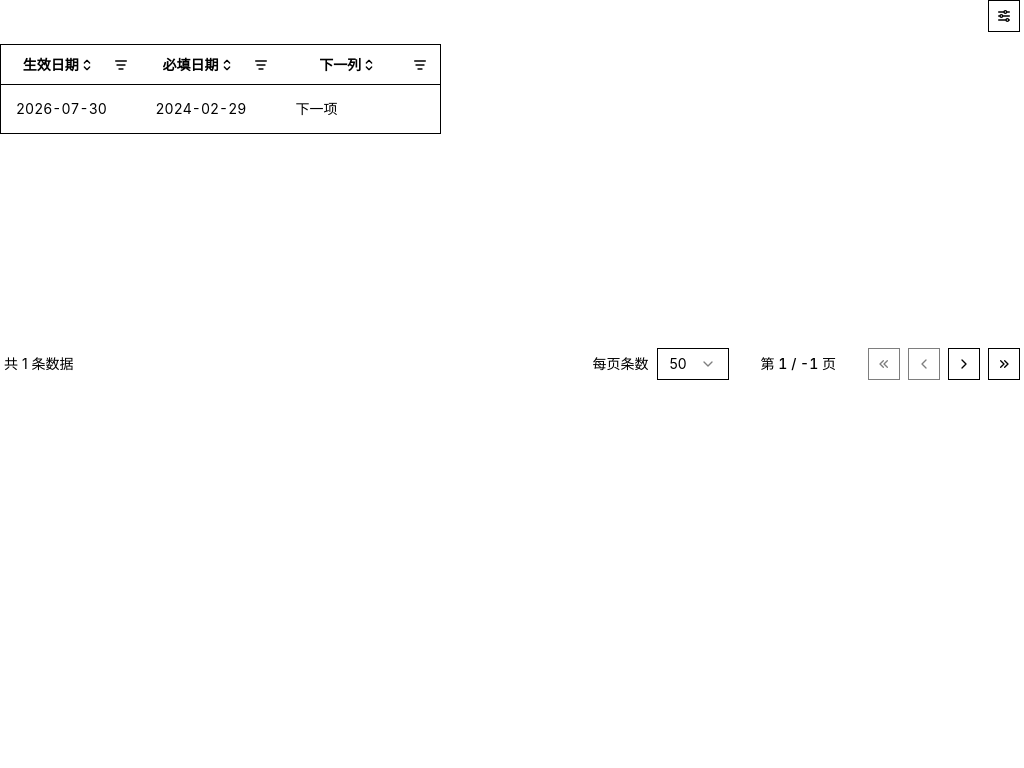
it: DataTableEditableDateCell › cancels the whole session from Calendar Escape and restores cell focus
Double-click the cell "2026-07-30" at (70, 109), box 0,85 -> 140,133
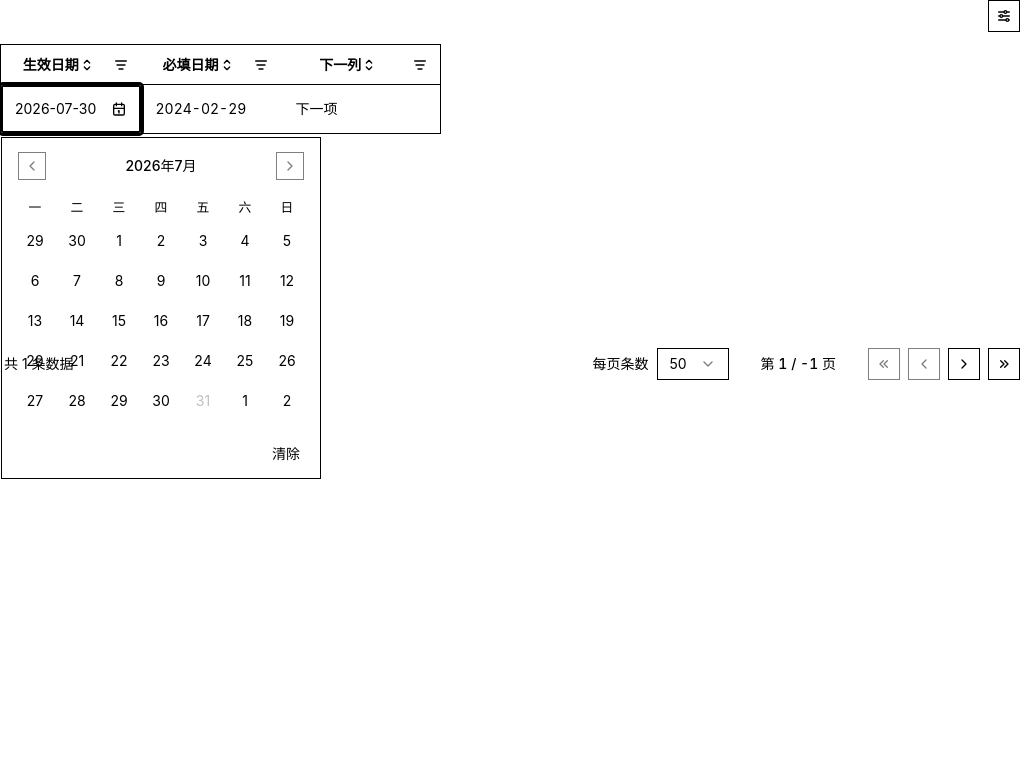
Press Escape in the dialog named "生效日期日历", box 1,137 -> 321,479
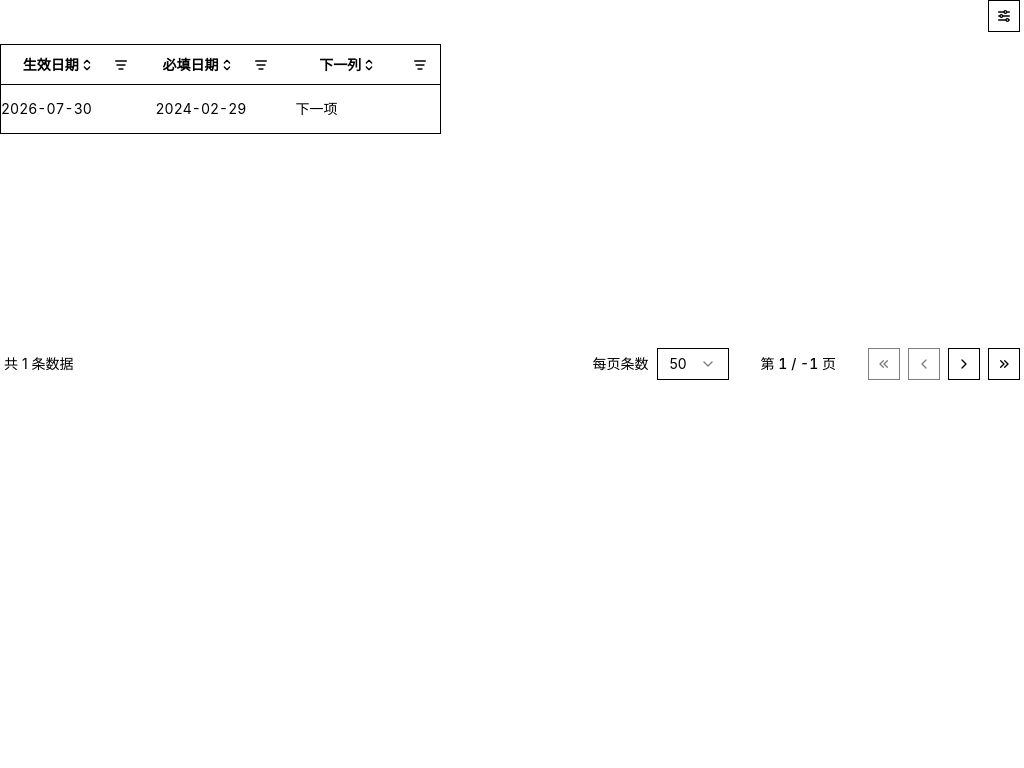
Expected: the cell "2026-07-30" is shown, 0,85 -> 140,133
Expected: the dialog "生效日期日历" is gone
